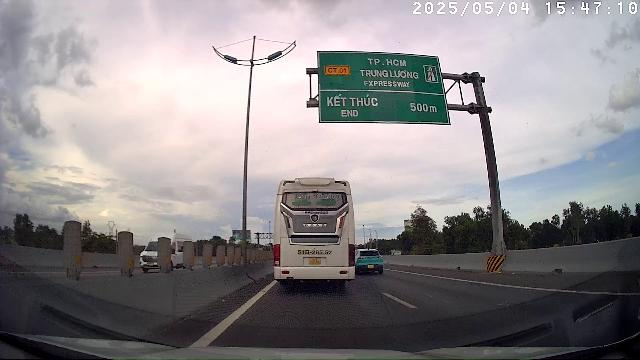438-ket-thuc-duong-cao-toc: (423, 63, 439, 83)
